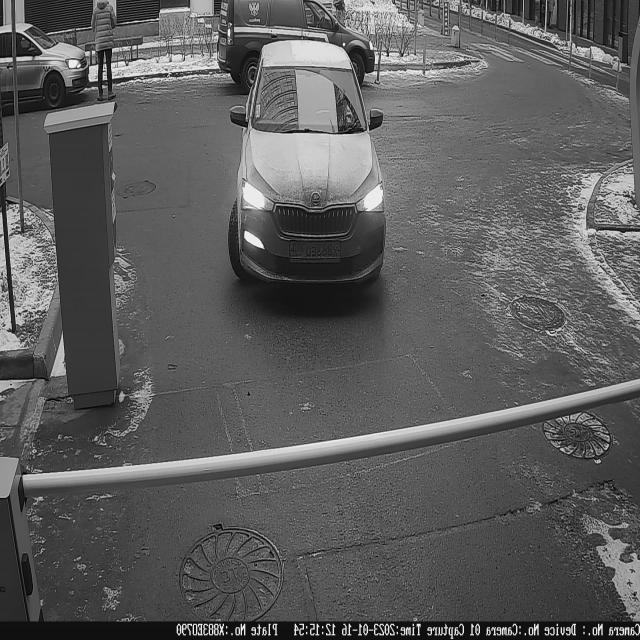car-plate-numbers: (289, 233, 346, 268)
